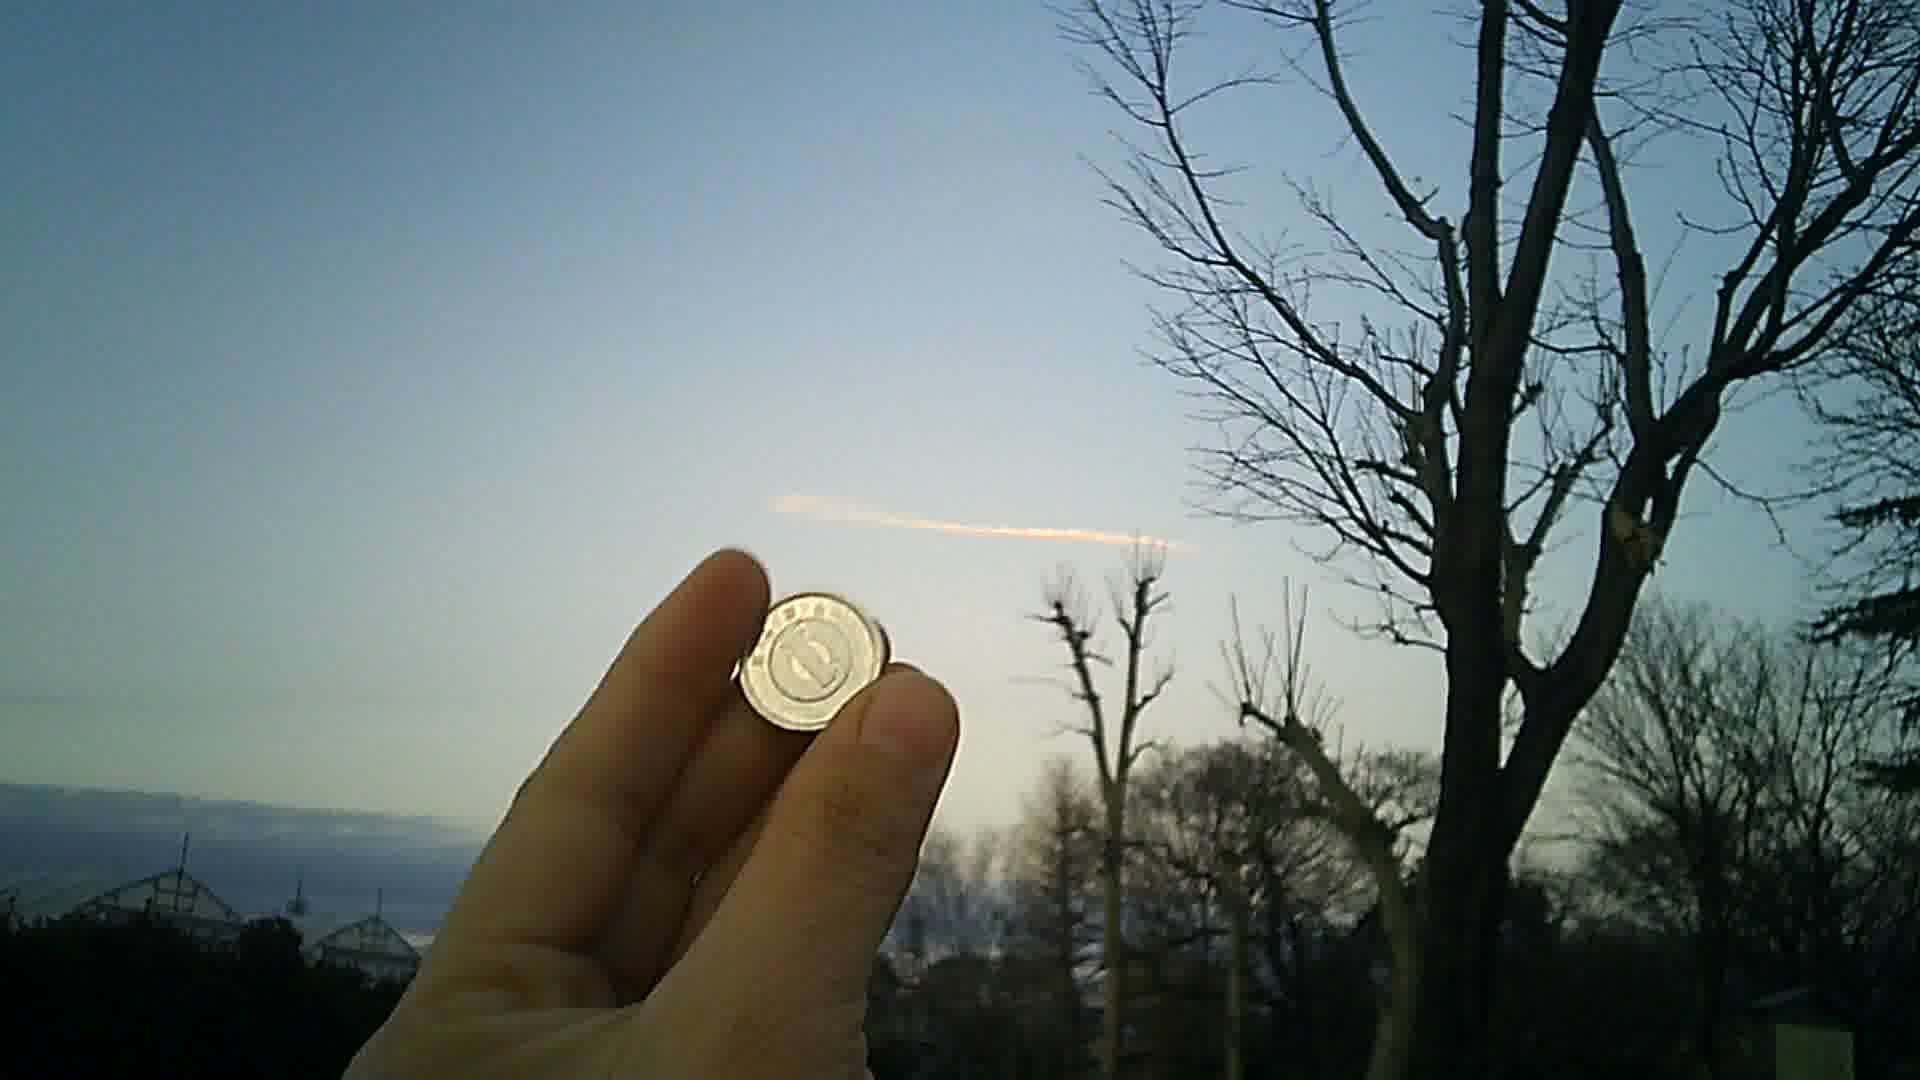1 Yen: (736, 584, 887, 738)
